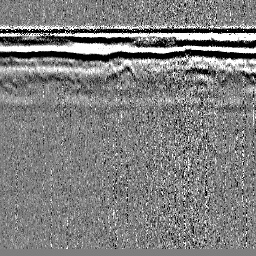cavity: (117, 57, 137, 78)
